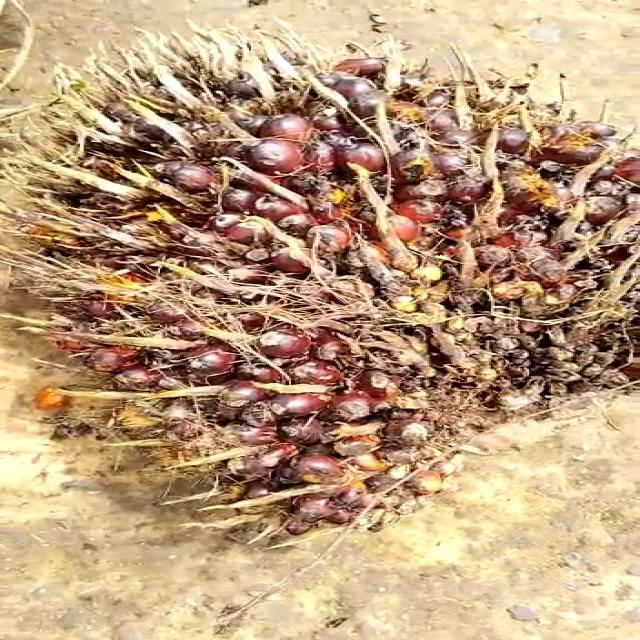palm oil: (26, 38, 640, 551)
